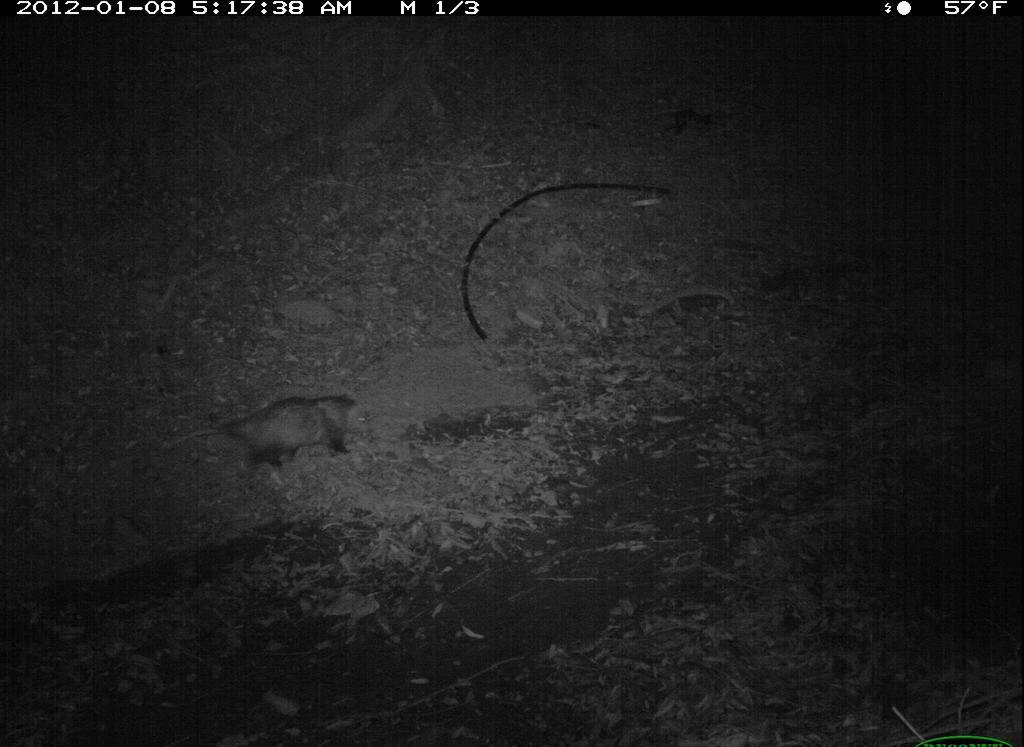opossum: (152, 386, 378, 479)
